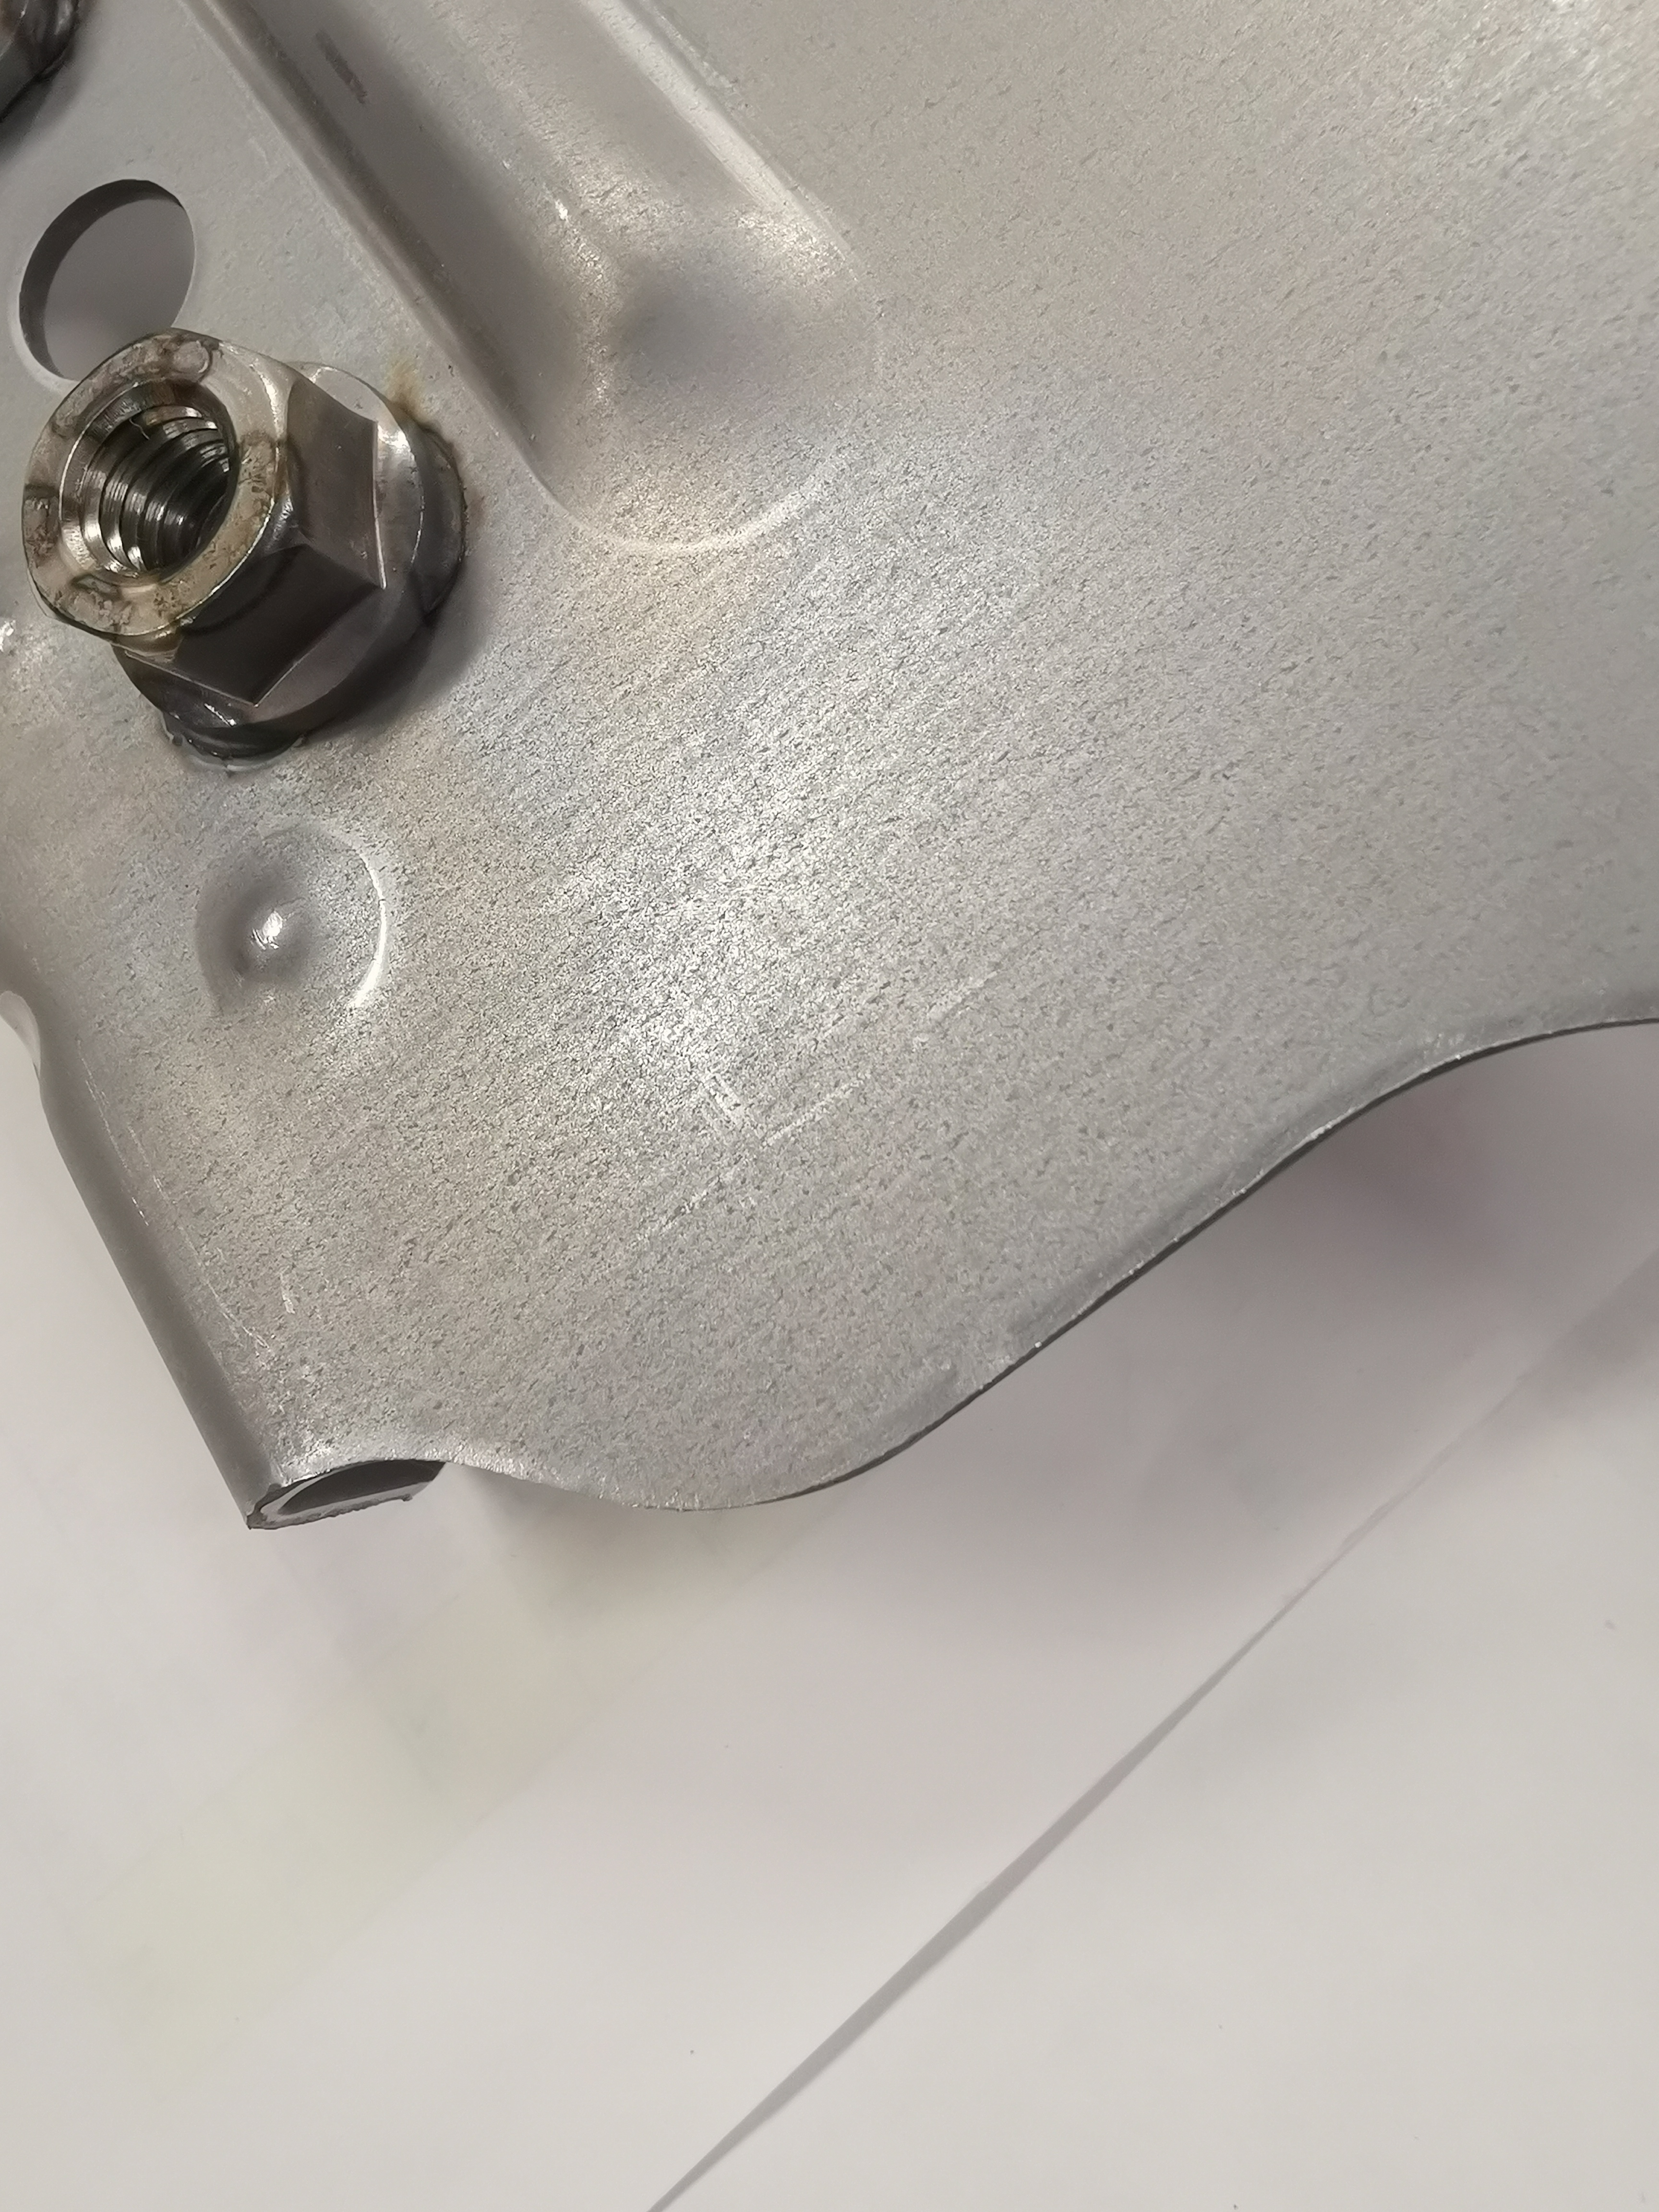dog: (14, 322, 476, 765)
